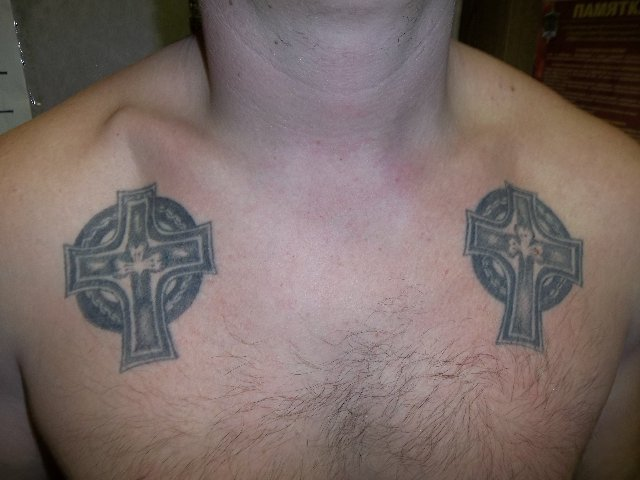tatu9_krest: (58, 181, 226, 382), (452, 179, 593, 356)
